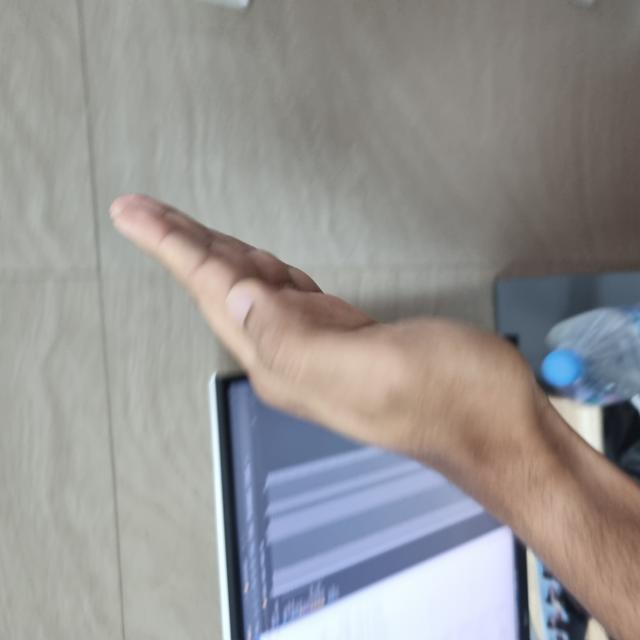Paper: (161, 112, 446, 537)
